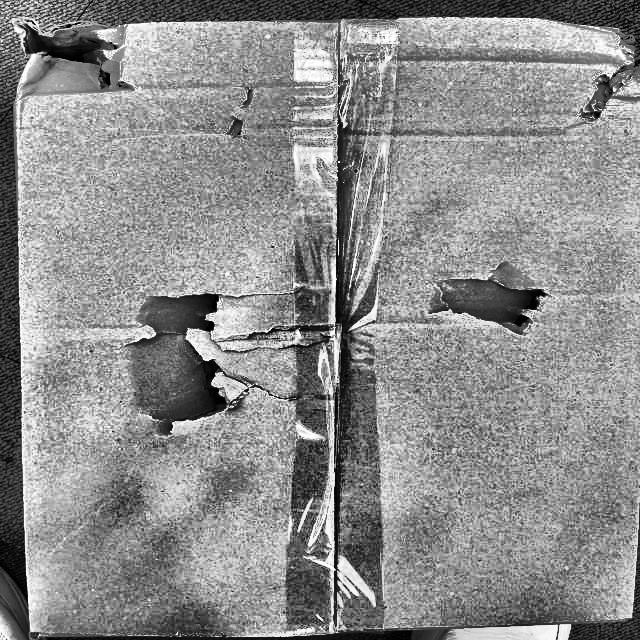box: (5, 15, 639, 639)
hole: (126, 287, 238, 435), (7, 24, 148, 92), (572, 33, 640, 123), (453, 279, 563, 327)
